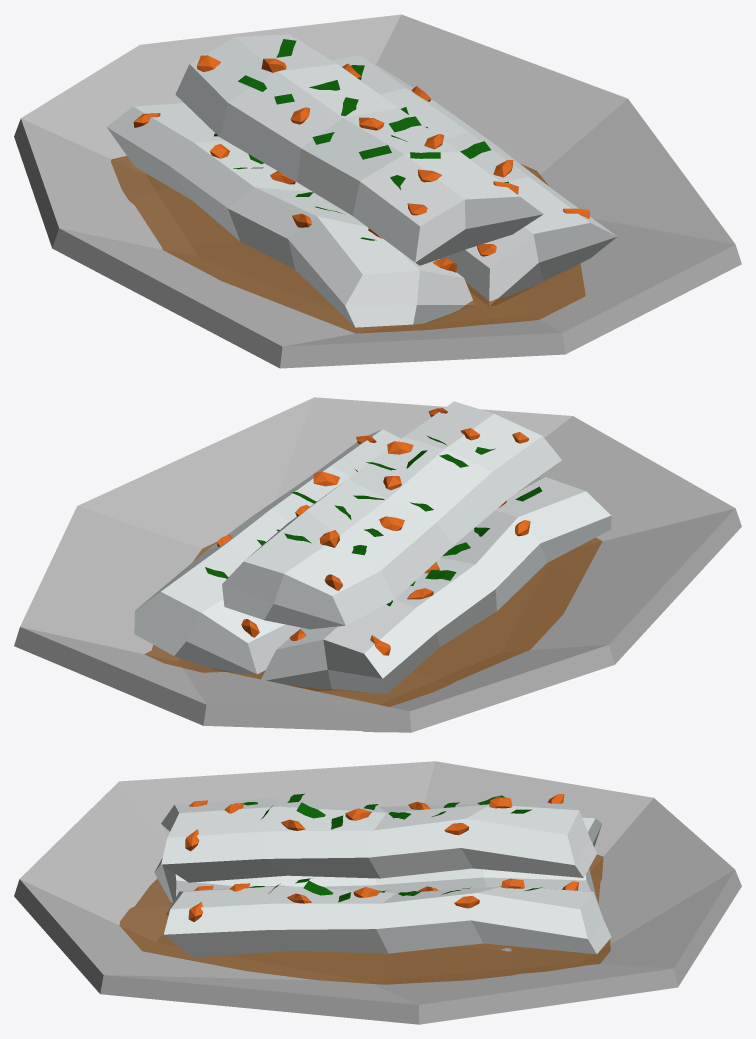
File: Rice_Noodle_Roll.fbx
3 views of the same model, one above another, from view 1: azimuth 30°, elevation 25°; view 2: azimuth 150°, elevation 25°; view 3: azimuth 270°, elevation 25° (orthographic). The views are drawn at different scales.
Parts seen in each view (by area): view 1: Cheung Fun; view 2: Cheung Fun; view 3: Cheung Fun.
Boxes of the visible parts, x1=… form: Cheung Fun: x1=14, y1=14, x2=741, y2=368; Cheung Fun: x1=14, y1=397, x2=741, y2=732; Cheung Fun: x1=14, y1=761, x2=741, y2=1024.
Size of the model in its own units: 208 by 52.43 by 256.
